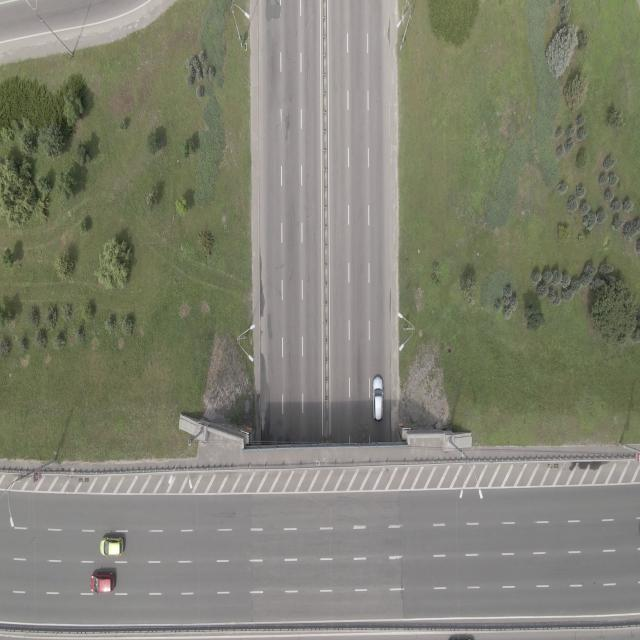vehicle: (90, 572, 116, 592), (373, 375, 383, 421), (100, 538, 124, 556)
